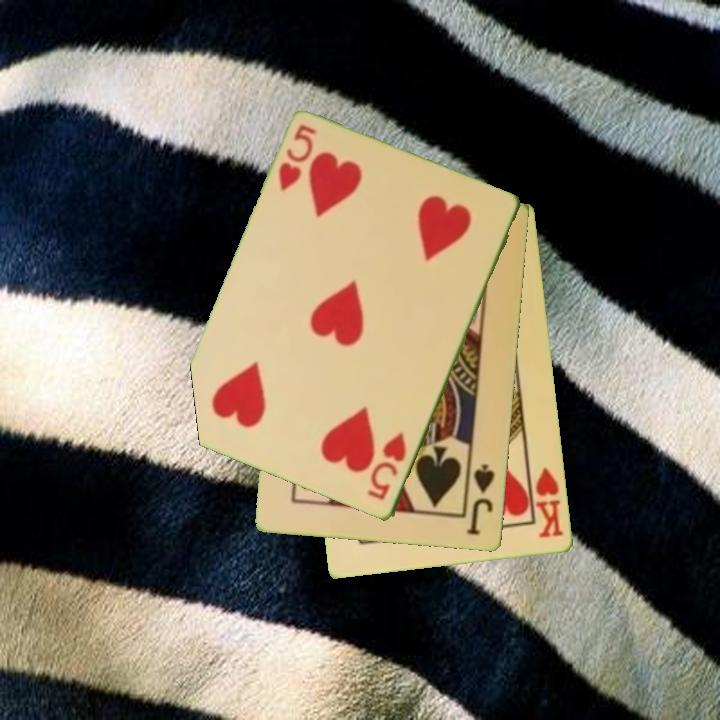5h: (364, 429, 410, 504), (274, 121, 319, 195)
Js: (464, 460, 498, 539)
Kh: (526, 462, 567, 541)
